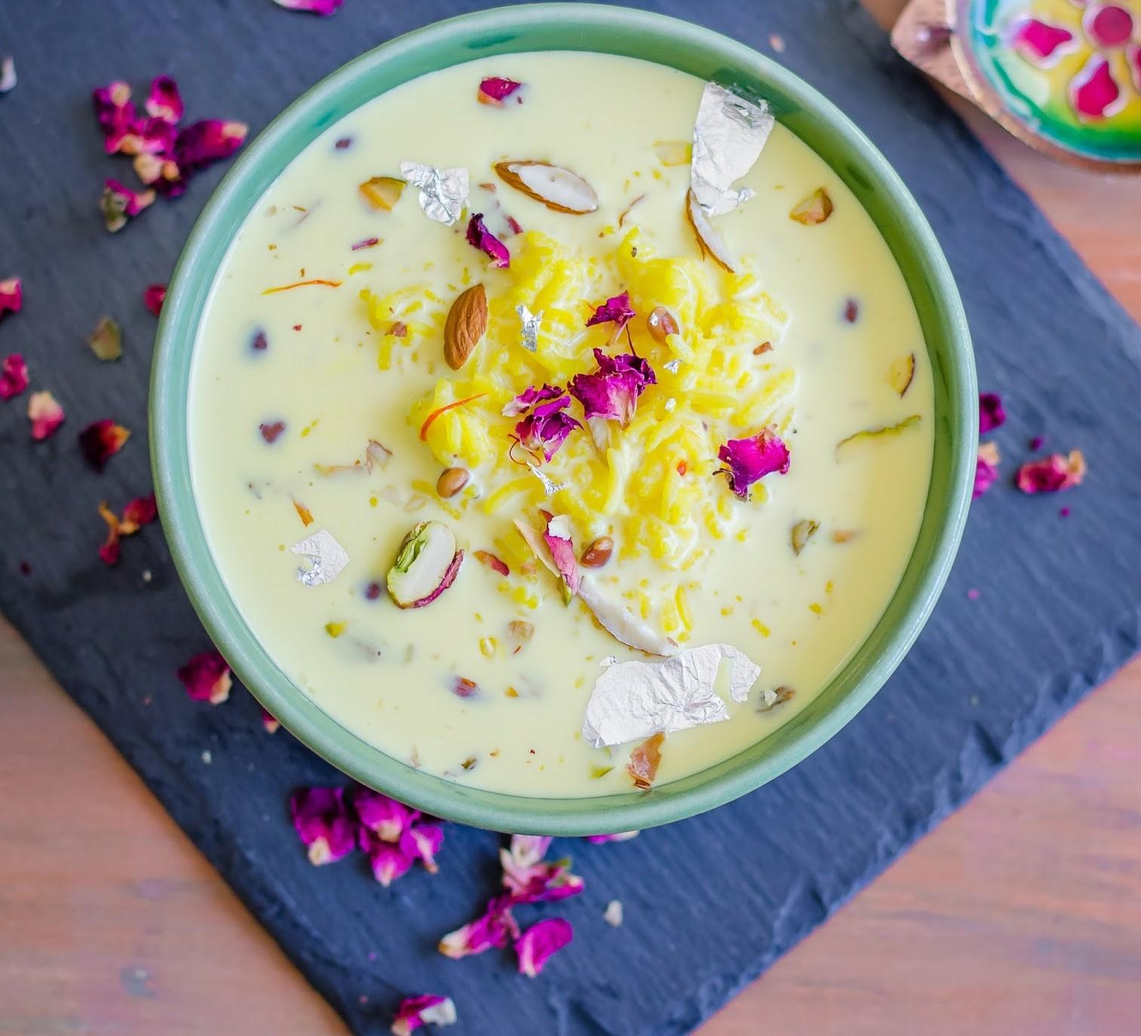Kheer: (194, 49, 941, 800)
